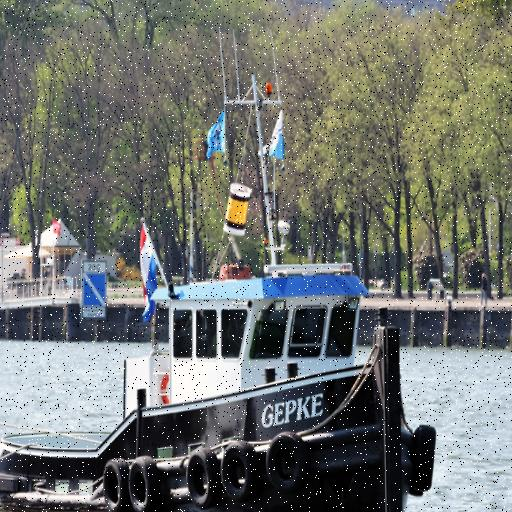tugboat: (1, 252, 440, 512)
